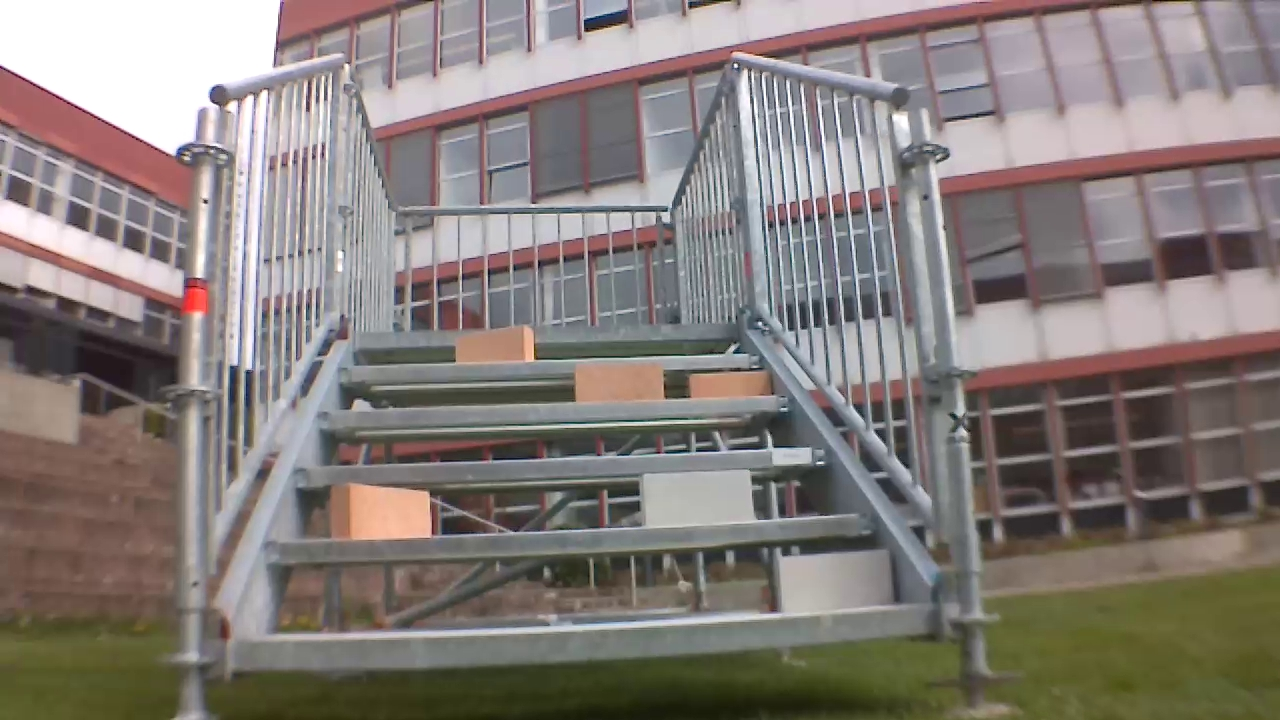brick: (777, 551, 892, 612), (639, 471, 751, 525), (330, 482, 430, 536), (577, 362, 662, 402), (456, 326, 534, 361), (690, 371, 768, 397)
edge: (235, 606, 936, 667), (267, 515, 878, 560), (292, 448, 828, 486), (312, 396, 795, 428), (336, 354, 762, 381), (357, 323, 739, 343)
stairs: (160, 53, 1022, 716)
steps: (226, 319, 941, 673)
